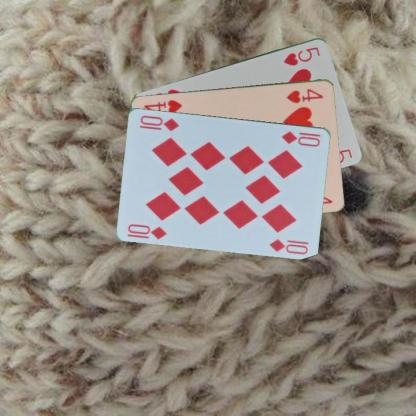10d: (279, 128, 321, 148), (126, 221, 168, 240)
4h: (284, 86, 324, 104)
5h: (281, 44, 321, 67)
